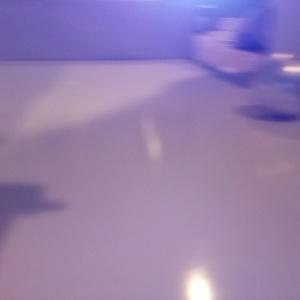alive_ball: (258, 60, 300, 116)
